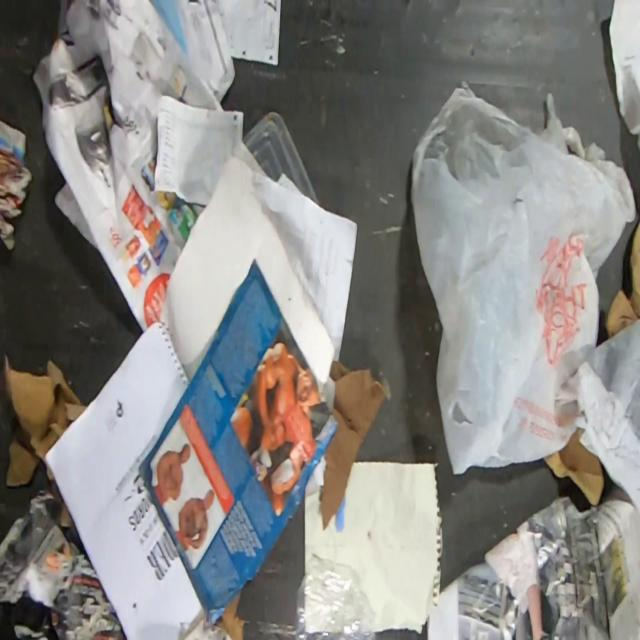cardboard: (4, 356, 88, 527), (319, 360, 387, 532), (604, 220, 640, 339)
rigid_plastic: (241, 112, 319, 204), (295, 557, 376, 638)
soft_plastic: (409, 83, 636, 473)
